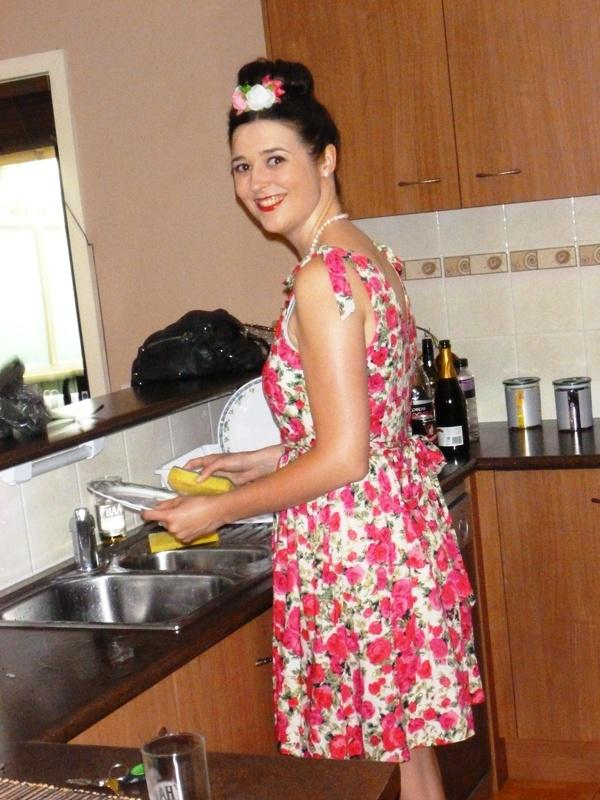person: (141, 58, 486, 792)
